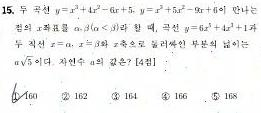choice: (10, 86, 23, 103)
not-choice: (60, 91, 71, 101), (110, 91, 121, 101), (160, 91, 171, 101), (210, 91, 221, 101)
